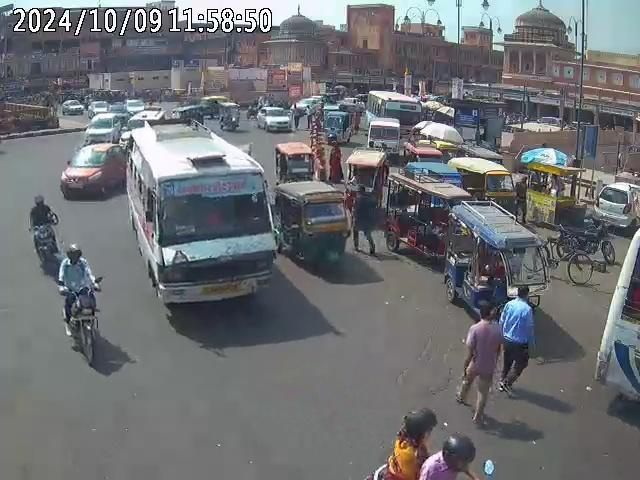auto: (441, 197, 552, 317), (271, 178, 352, 271), (344, 146, 390, 212), (593, 181, 639, 232), (320, 107, 353, 144), (217, 102, 240, 132)
bus: (123, 121, 276, 318), (596, 208, 638, 464), (366, 88, 424, 129)
car: (60, 141, 126, 199), (83, 112, 125, 145), (256, 106, 293, 133), (122, 97, 147, 118), (60, 98, 85, 116), (87, 99, 110, 117)
helmet: (399, 405, 439, 435), (441, 433, 477, 460), (63, 243, 82, 260), (32, 194, 47, 207)
motorbike: (555, 216, 615, 256)
motorbike-rider: (355, 405, 505, 479), (53, 241, 104, 365)
person: (457, 304, 497, 428), (494, 283, 537, 394)
scooty-rider: (30, 195, 59, 272)
vendor: (529, 153, 585, 227)
